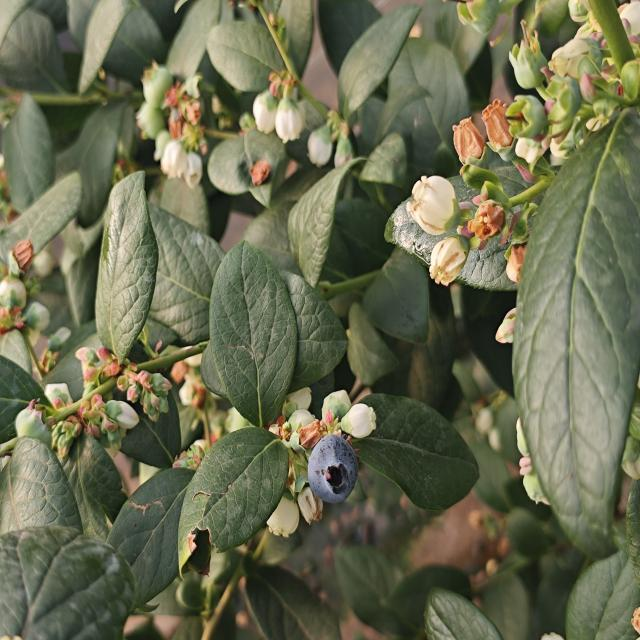ripe: (305, 432, 360, 507)
